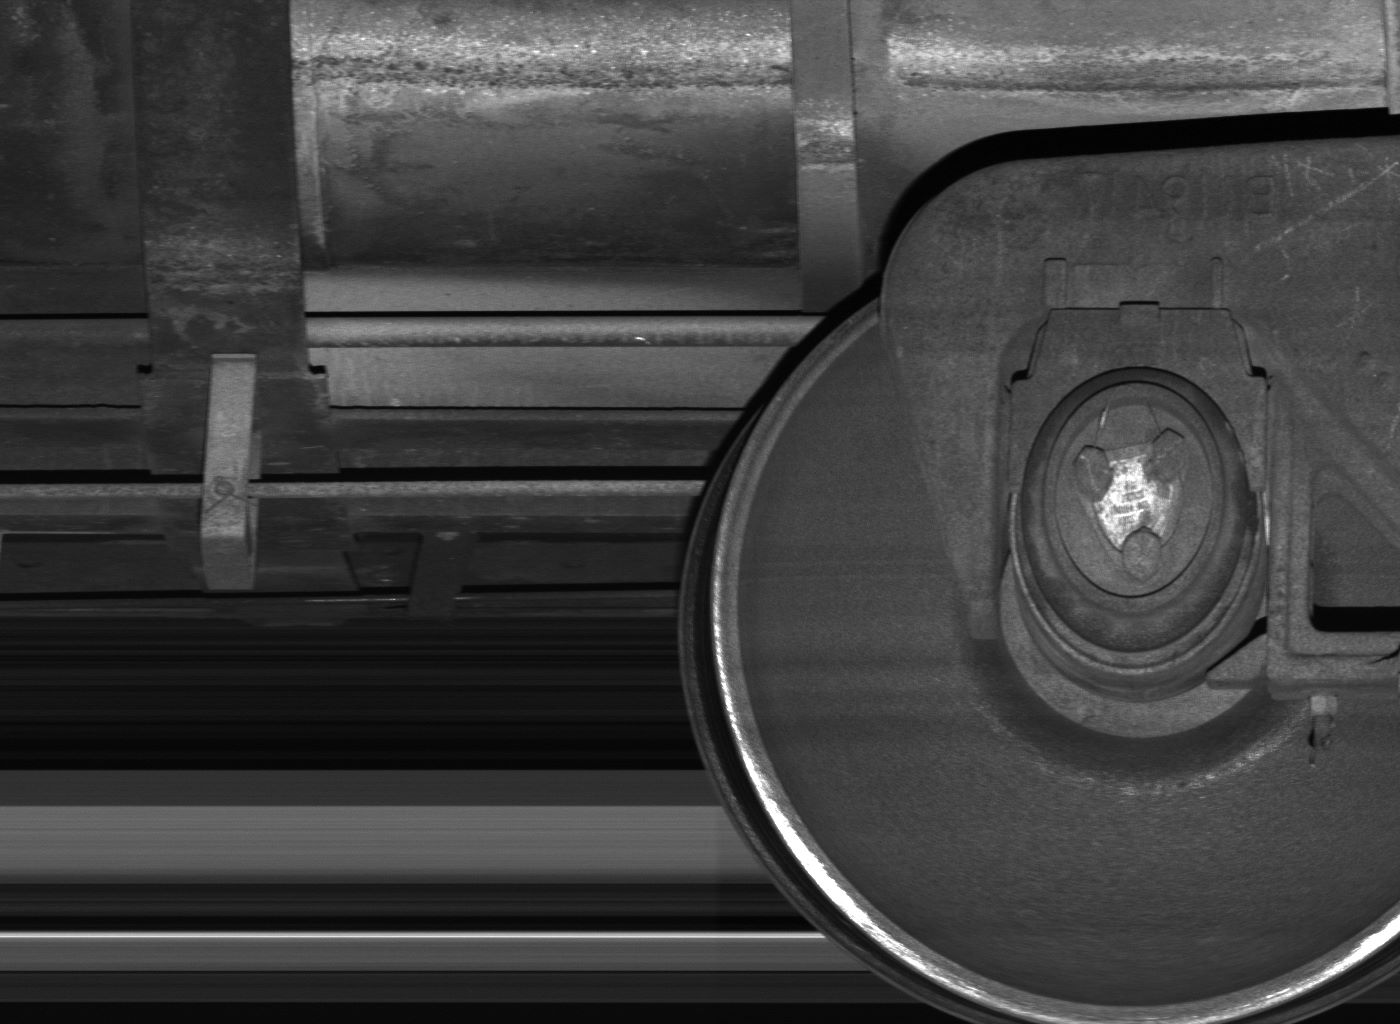normal: (199, 351, 265, 591)
